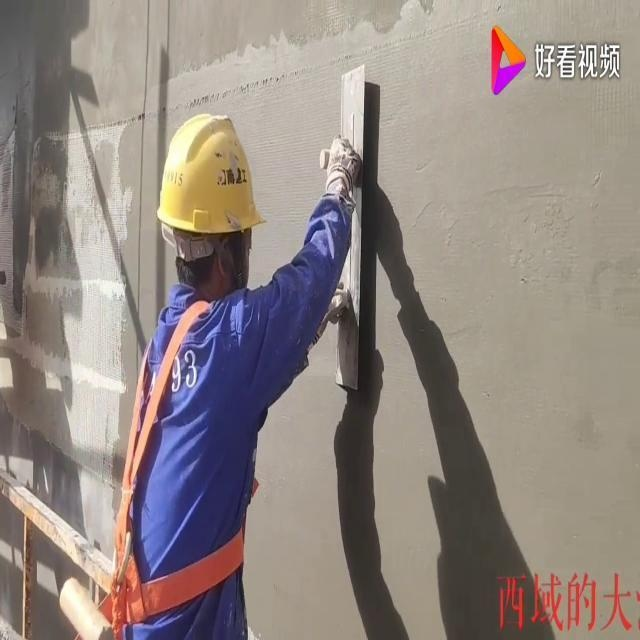Arnes_seguridad: (95, 287, 255, 638)
